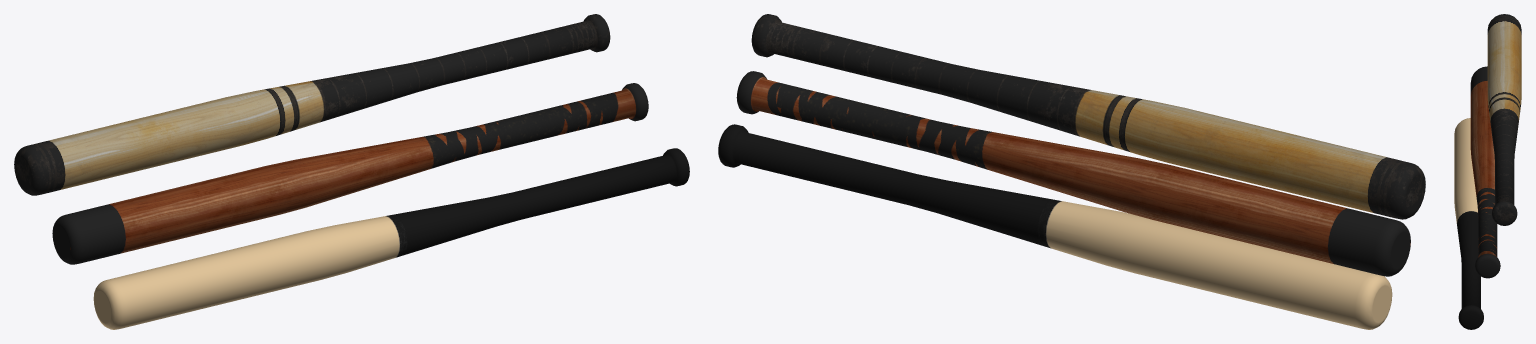
3 renders of one model, left to right at view 1: azimuth 30°, elevation 25°; view 2: azimuth 150°, elevation 25°; view 3: azimuth 270°, elevation 25°, orthographic. The views are drawn at different scales.
Visible parts, largest first — view 1: Baseball_Bat007_02 - Default_0, Baseball_Bat006_Baseball_Bat_0, Baseball_Bat008_03 - Default_0; view 2: Baseball_Bat006_Baseball_Bat_0, Baseball_Bat007_02 - Default_0, Baseball_Bat008_03 - Default_0; view 3: Baseball_Bat006_Baseball_Bat_0, Baseball_Bat007_02 - Default_0, Baseball_Bat008_03 - Default_0.
Part boxes in pixels (x1=…): Baseball_Bat007_02 - Default_0: x1=52, y1=83, x2=648, y2=264; Baseball_Bat006_Baseball_Bat_0: x1=14, y1=14, x2=610, y2=195; Baseball_Bat008_03 - Default_0: x1=93, y1=148, x2=689, y2=329; Baseball_Bat006_Baseball_Bat_0: x1=751, y1=14, x2=1425, y2=219; Baseball_Bat007_02 - Default_0: x1=736, y1=71, x2=1410, y2=276; Baseball_Bat008_03 - Default_0: x1=718, y1=124, x2=1392, y2=329; Baseball_Bat006_Baseball_Bat_0: x1=1487, y1=14, x2=1521, y2=225; Baseball_Bat007_02 - Default_0: x1=1470, y1=66, x2=1500, y2=278; Baseball_Bat008_03 - Default_0: x1=1454, y1=118, x2=1483, y2=329.
Size of the model in its own units: 0.8753 by 0.2318 by 0.121.
Materials: 3 (3 with a texture image).
